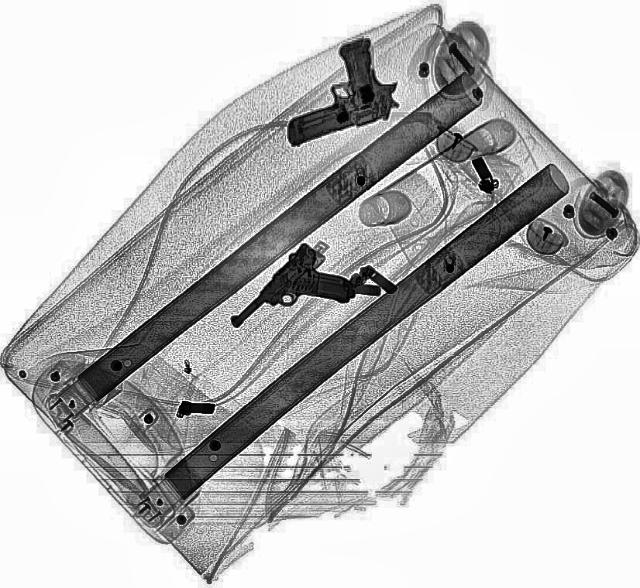Gun: (255, 31, 410, 149), (219, 240, 363, 362)
